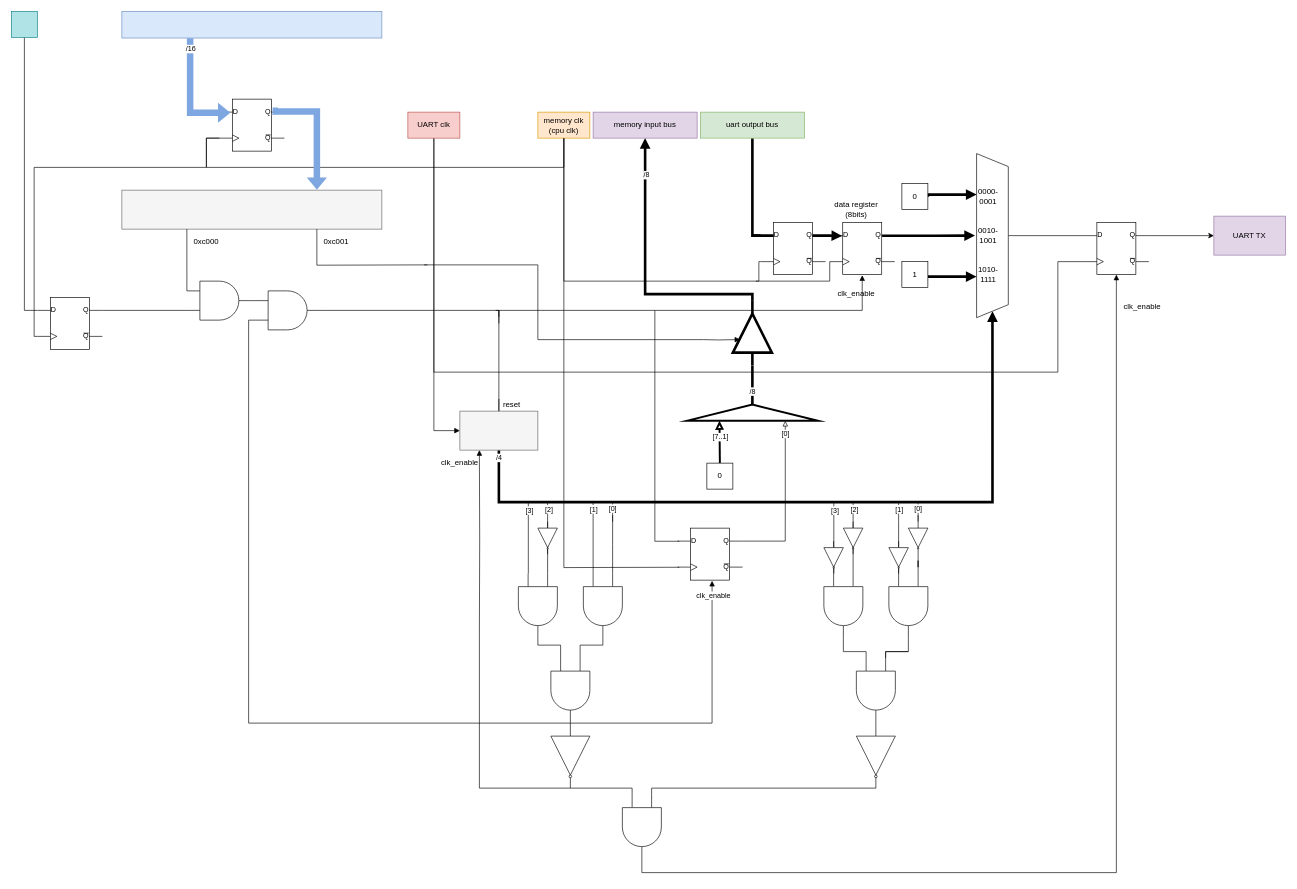
Some shapes in this 1297 by 889 pixel diagram are drawn without their labels. The centre of each missing label's shape, as x and y in pixels:
"4 bits counter" belongs at point (498, 430).
"address decoder" belongs at point (251, 209).
"memory address (ALU output bus)" belongs at point (251, 24).
"WE" belongs at point (24, 24).
